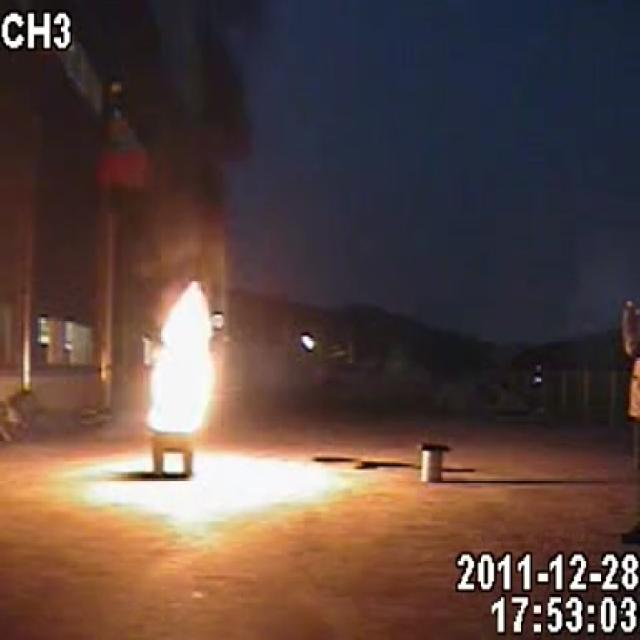Fire: (155, 269, 230, 436)
